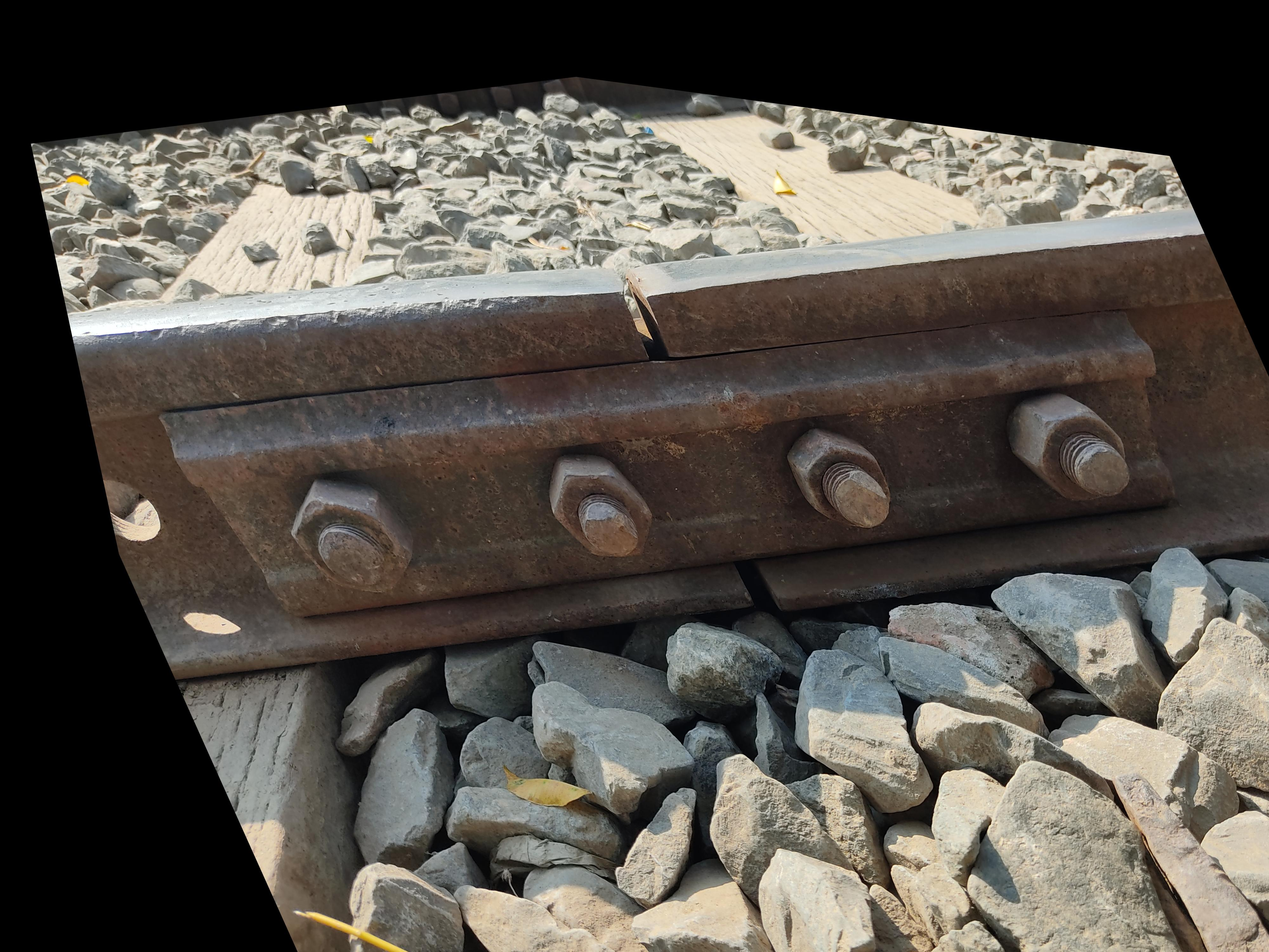person: (356, 259, 773, 626), (572, 635, 763, 795)
